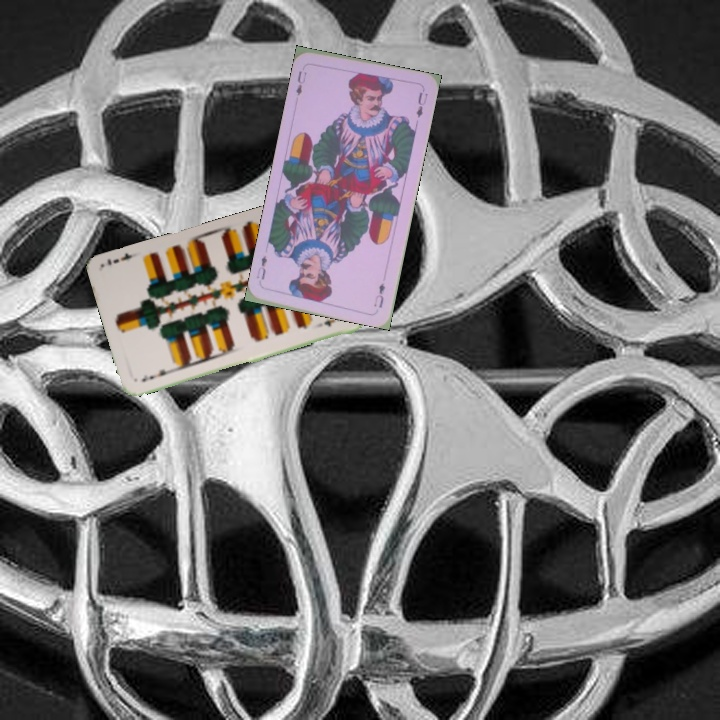E7: (138, 365, 174, 384)
EU: (369, 279, 387, 310), (292, 67, 309, 98)
